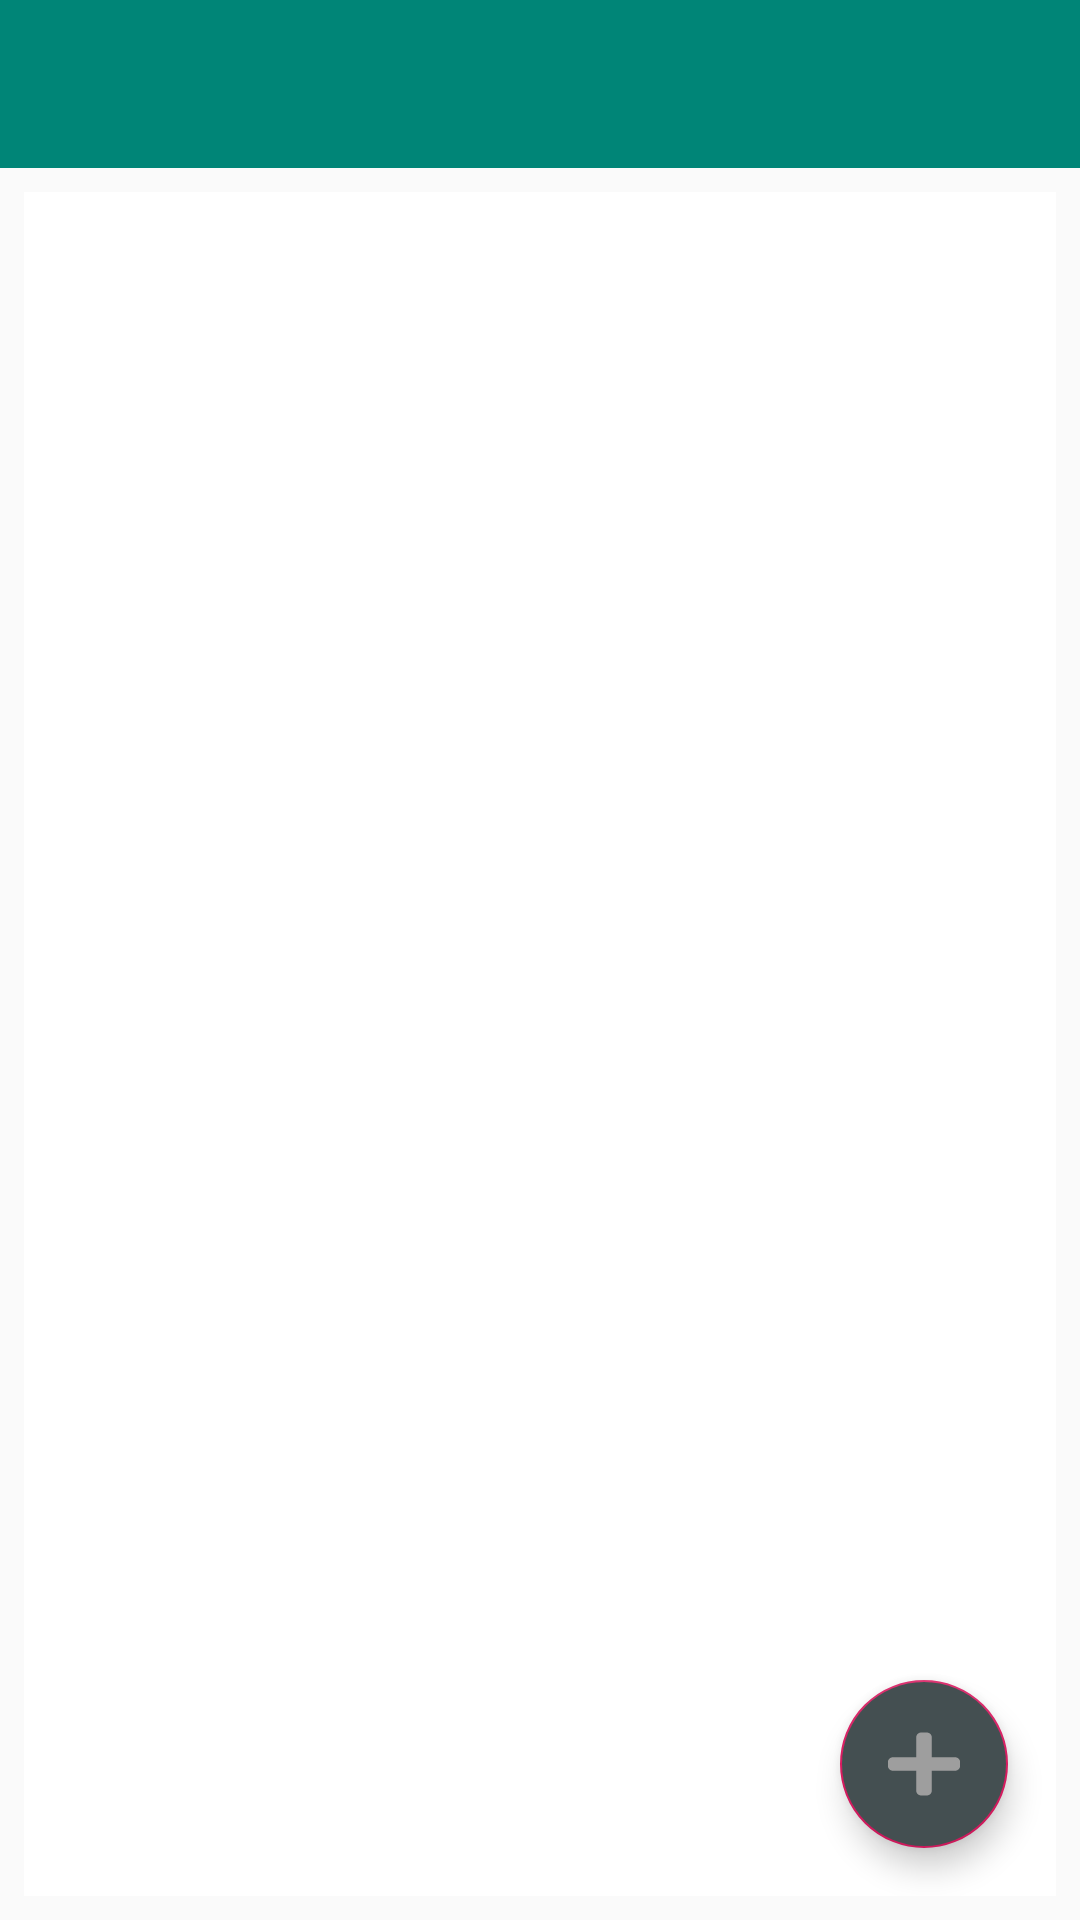

Point at icon controls on the screen. Image size 1080w x 1920h, points as point (x, y).
plus: point (924, 1764)
